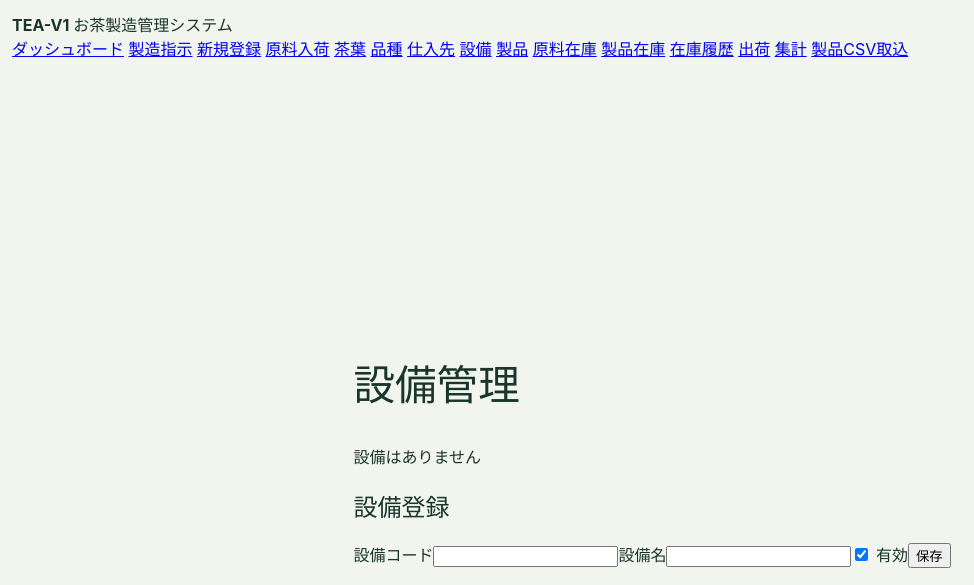
it: 設備一覧のemptyと登録中表示を扱う
Expected: the text "設備はありません" is shown, left=353, top=447, right=481, bottom=467
In the field labelled "設備コード": (526, 557) left=433, top=546, right=618, bottom=567, type "EQ-10"
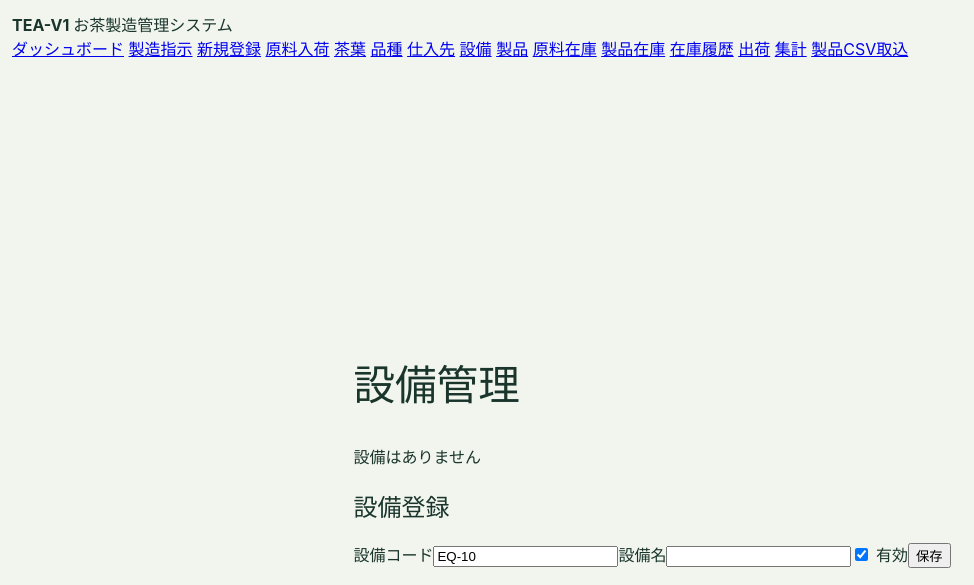
In the field labelled "設備名": (759, 557) left=666, top=546, right=851, bottom=567, type "乾燥機"
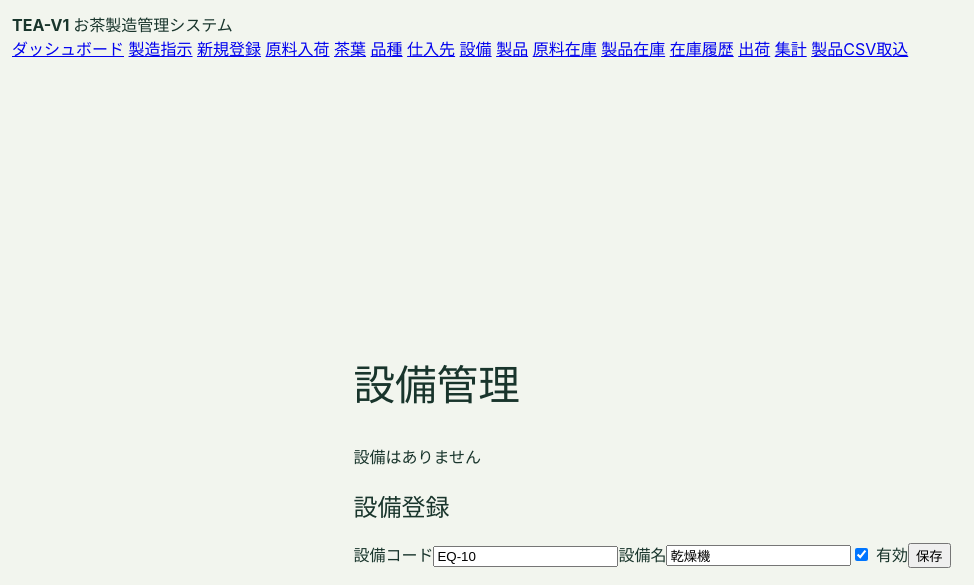
Click the button "保存": (929, 556) left=908, top=543, right=951, bottom=568
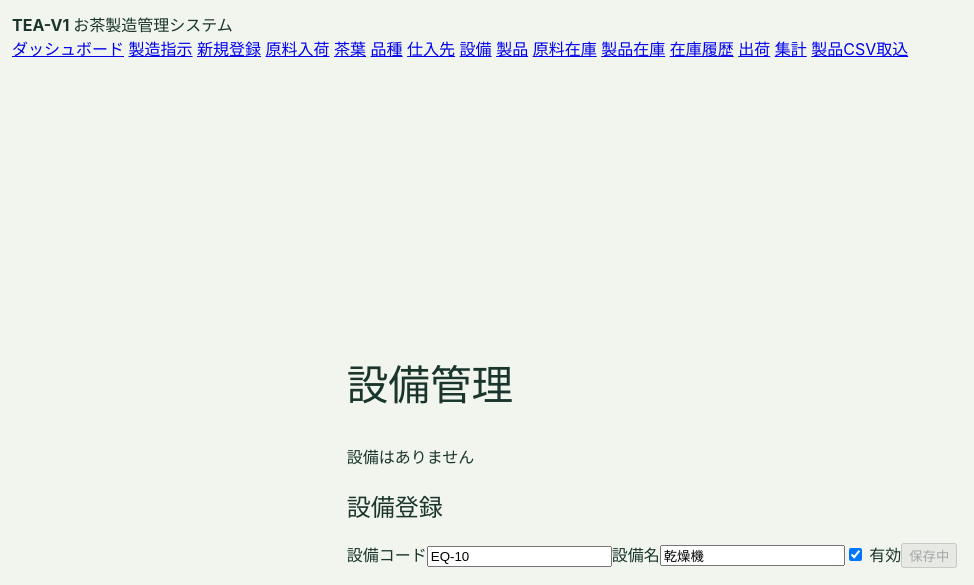
Expected: the button "保存中" is disabled, left=901, top=543, right=957, bottom=568
